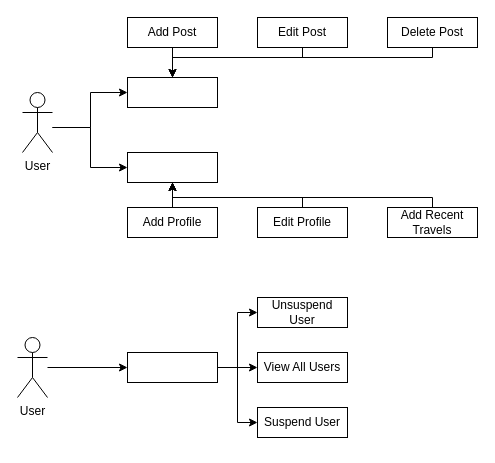
This 495x463 diagram has some shape labels left out. Each missing label, with the centre of its shape:
Manage Post: point (172, 92)
Manage Profile: point (172, 167)
Manage Users: point (172, 367)
